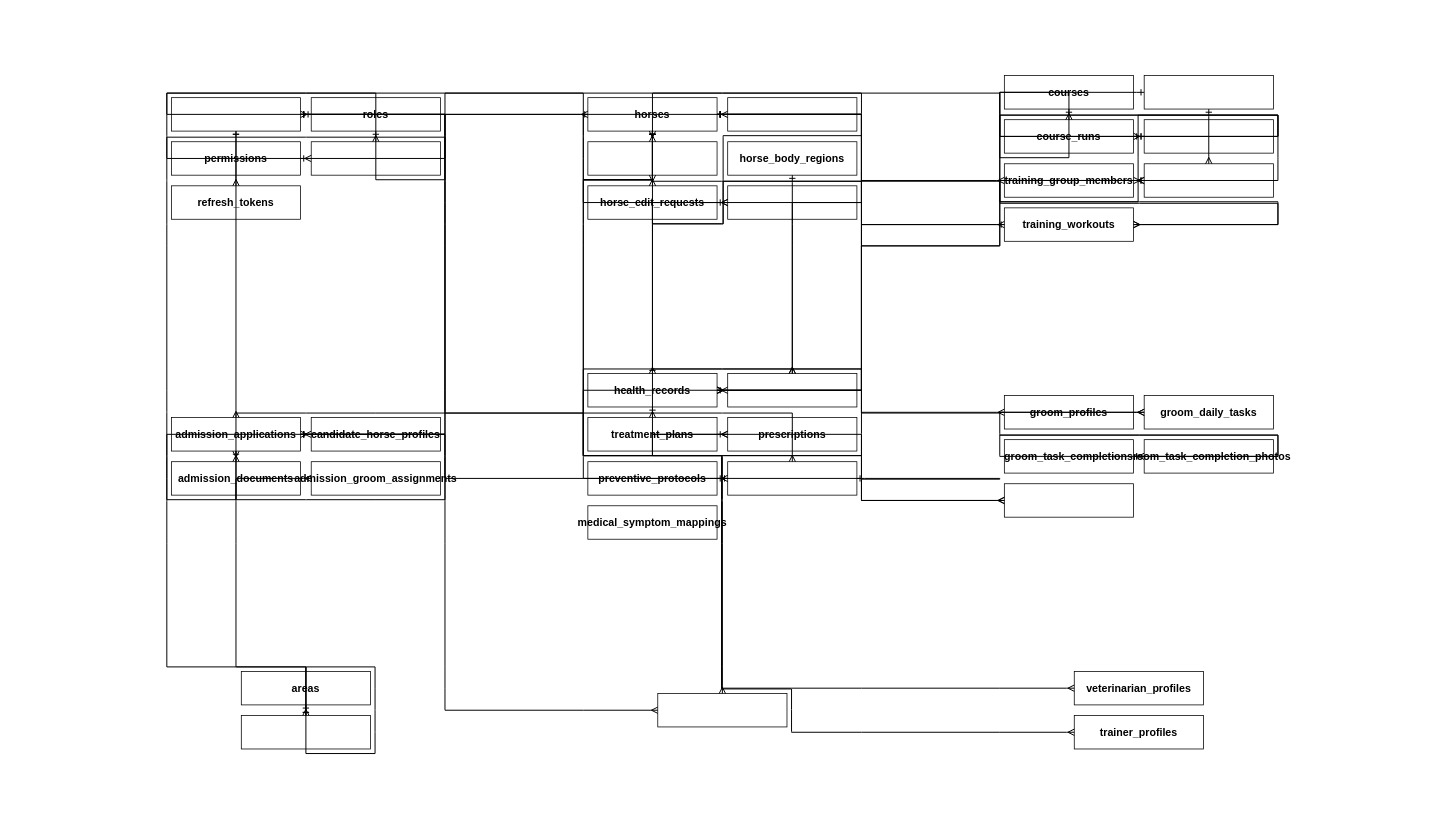
Image size: 1444x824. Some labels were removed from this diagram. The box of each missing label's shape, as (x1, y1, x2, y2) in pixels:
care_schedule: (727, 461, 857, 495)
exercises: (1143, 75, 1273, 109)
health_conditions: (727, 373, 857, 407)
horse_edit_request_documents: (727, 185, 857, 219)
horse_health_metrics: (587, 141, 717, 175)
horse_incident_reports: (1004, 483, 1134, 517)
horse_pedigrees: (727, 97, 857, 131)
racing_readiness_assessments: (657, 693, 787, 727)
role_permissions: (310, 141, 440, 175)
stable_stalls: (241, 715, 370, 749)
training_groups: (1143, 119, 1273, 153)
training_sessions: (1143, 163, 1273, 197)
users: (171, 97, 301, 131)
